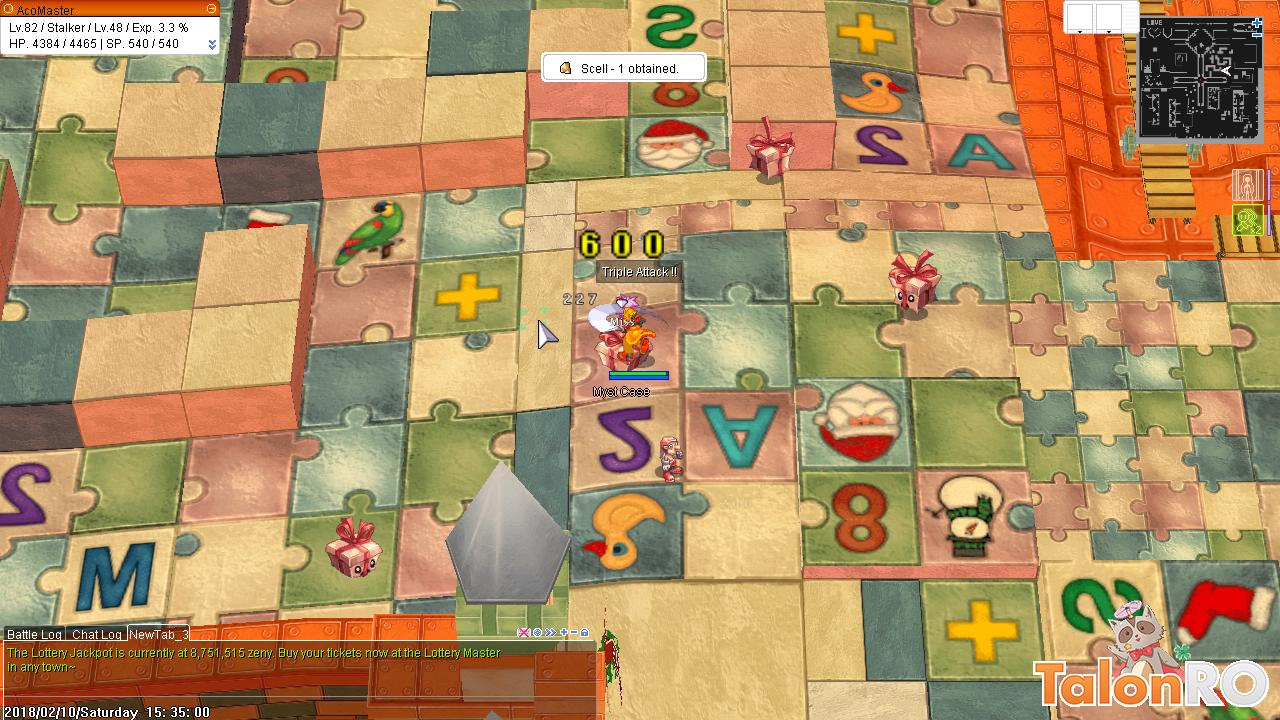myst_case: (882, 239, 943, 321), (317, 510, 384, 584), (743, 112, 798, 185), (594, 330, 625, 375)
